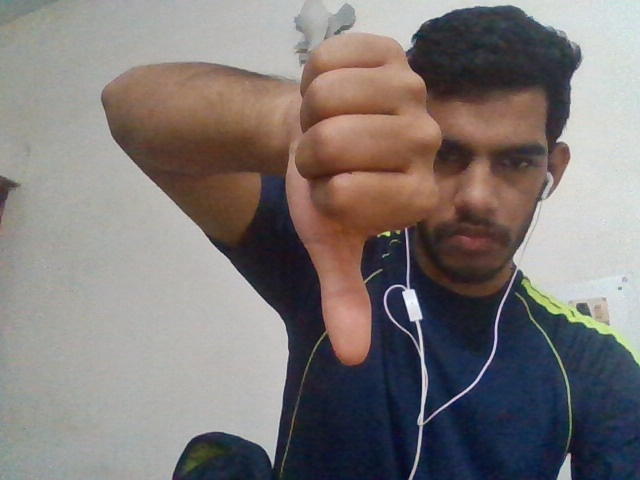no: (267, 32, 447, 368)
